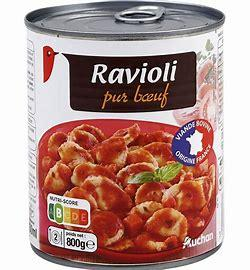metal: (25, 1, 225, 268)
